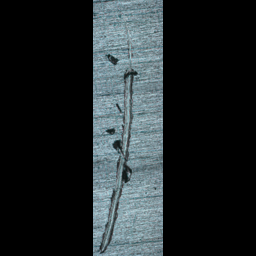d: (96, 6, 139, 254)
